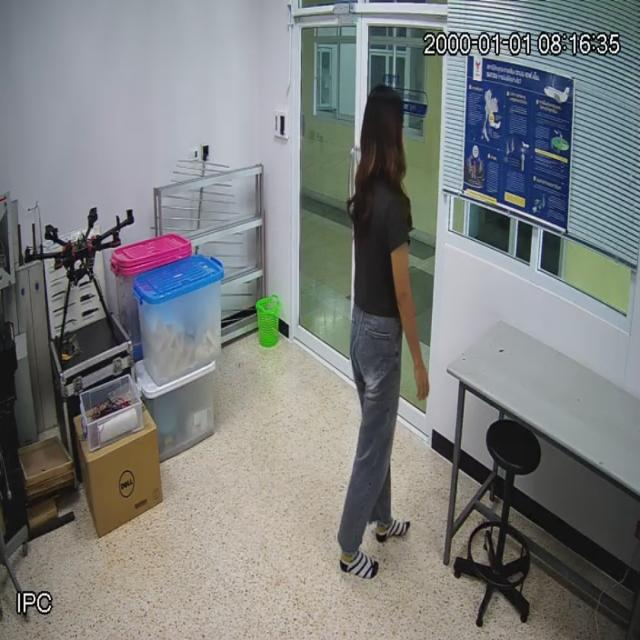normal: (343, 82, 429, 573)
